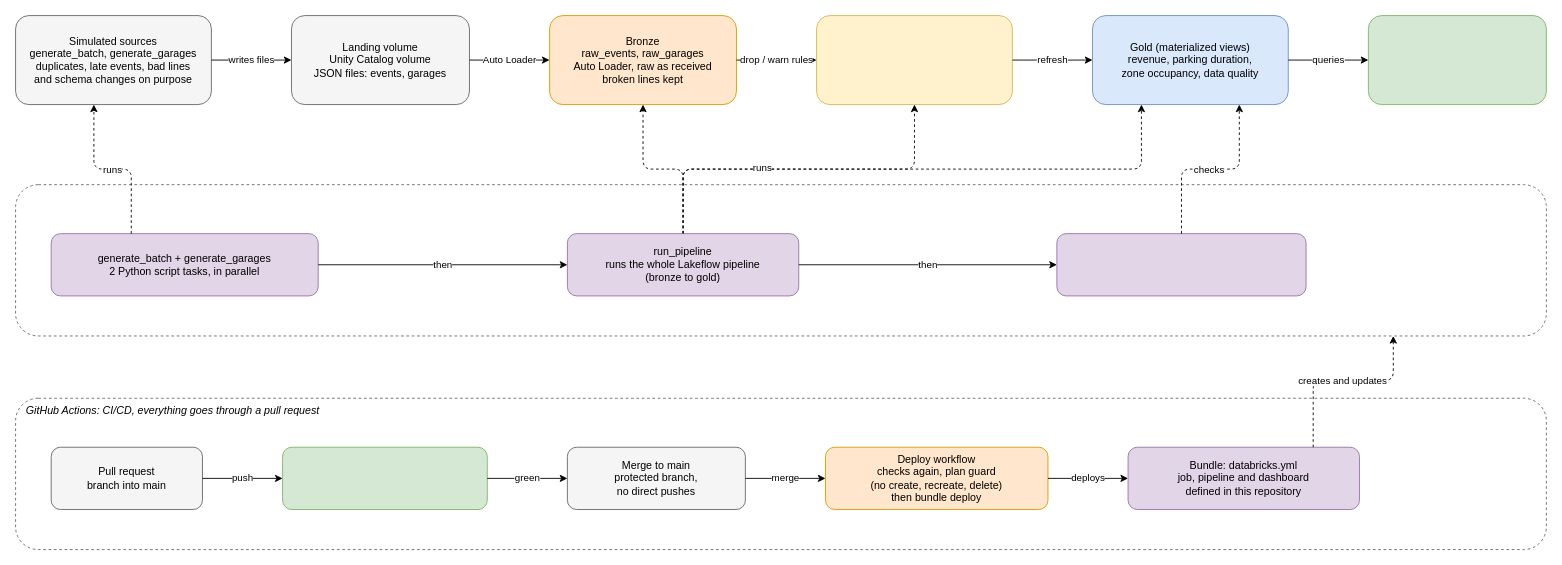
This 1562x565 diagram has some shape labels left out. Each missing label, with the box of its shape:
check_results fails the run when a table is empty or more than 5 % is rejected: (1056, 233, 1306, 296)
CI checks (required) ruff, 55 pytest tests, bundle validate and plan: (282, 446, 487, 510)
Dashboard pipeline health and business pages, deployed as code: (1367, 15, 1546, 105)
Databricks job, daily at 06:00 Europe/Vienna, retries on every task: (15, 184, 1546, 336)
Silver events_valid + events_rejected events (dedup), dim_zone (SCD2) sessions: (816, 15, 1012, 105)
